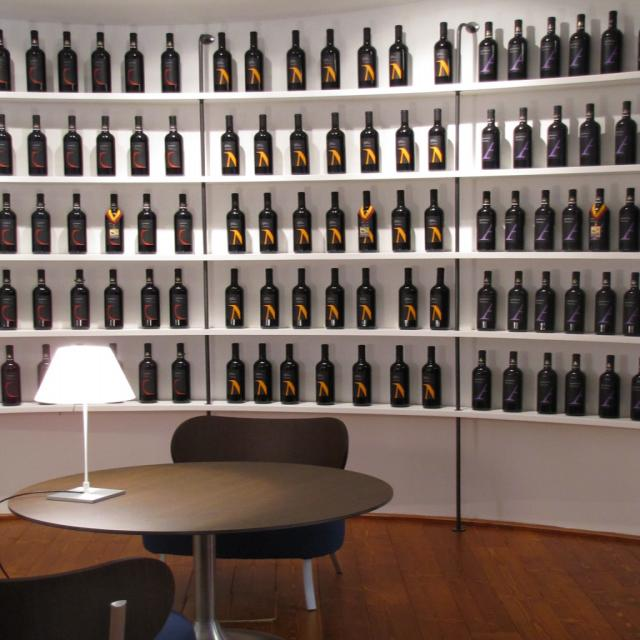chair: (163, 415, 375, 634), (0, 555, 195, 639)
desk: (0, 409, 419, 640)
